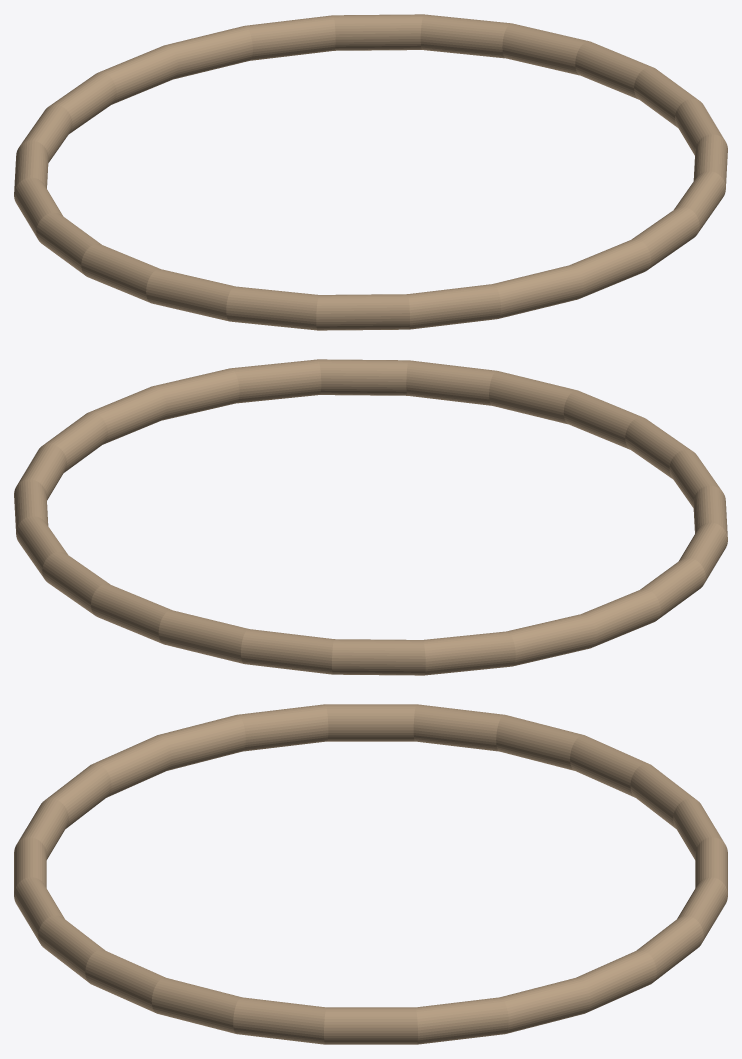
File: Shiny Lappi-Allis.glb
3 renders of one model, top to bottom at view 1: azimuth 30°, elevation 25°; view 2: azimuth 150°, elevation 25°; view 3: azimuth 270°, elevation 25°, orthographic. The views are drawn at different scales.
Visible parts, largest first — view 1: Mesh_Mesh_head_geo.001_lambert2SG.001; view 2: Mesh_Mesh_head_geo.001_lambert2SG.001; view 3: Mesh_Mesh_head_geo.001_lambert2SG.001.
Part boxes in pixels (left/top/right/bottom): Mesh_Mesh_head_geo.001_lambert2SG.001: left=14, top=14, right=727, bottom=330; Mesh_Mesh_head_geo.001_lambert2SG.001: left=14, top=359, right=727, bottom=675; Mesh_Mesh_head_geo.001_lambert2SG.001: left=14, top=704, right=727, bottom=1044.
Bounding box in the file's own units: 19.81 × 1 × 18.81.
